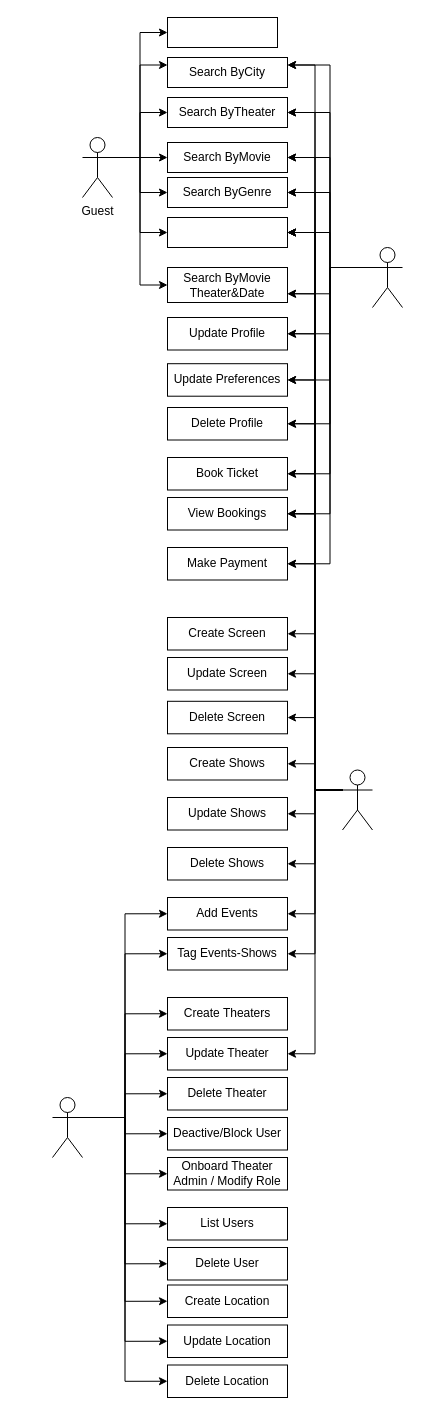
Some shapes in this 441 by 1415 pixel diagram are drawn without their labels. Each missing label, with the centre of its shape:
"BMS?Super Admin" goes at point (67, 1127).
"Register" goes at point (222, 32).
"Search ByMovie&Date" goes at point (227, 232).
"Theater Admin /Operator" goes at point (357, 799).
"User" goes at point (387, 277).
